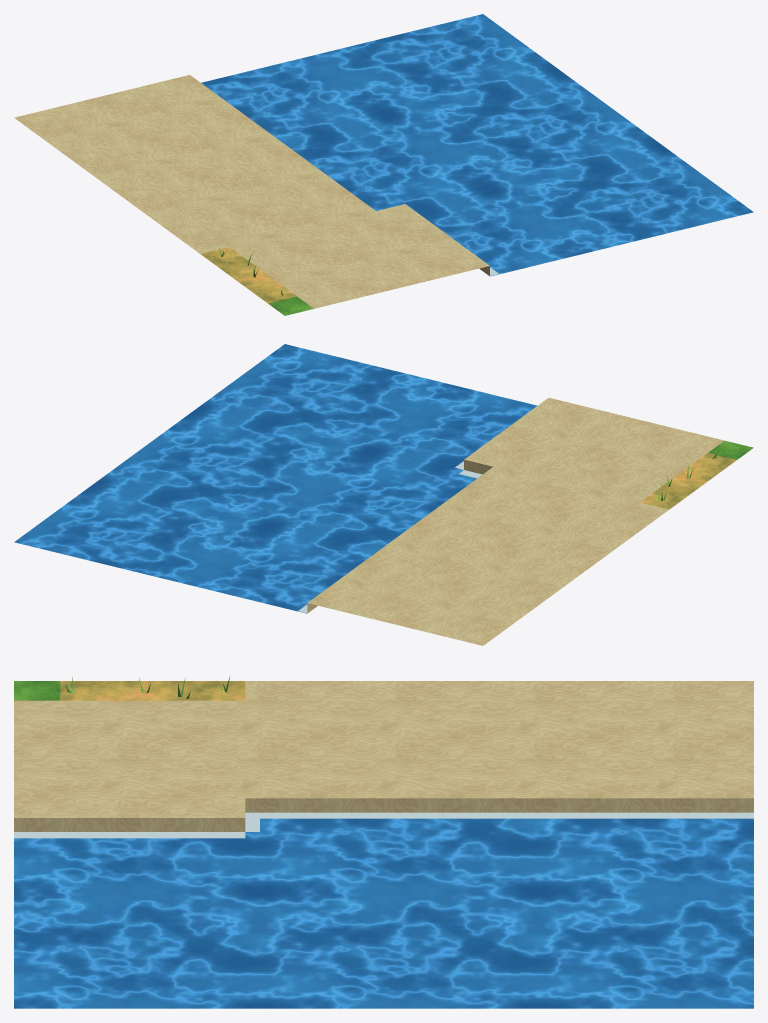
Rendered from chunk_11_9.glb.
3 views of the same model, one above another, from view 1: azimuth 30°, elevation 25°; view 2: azimuth 150°, elevation 25°; view 3: azimuth 270°, elevation 25° (orthographic). The views are drawn at different scales.
Parts seen in each view (by area): view 1: chunk_11_9; view 2: chunk_11_9; view 3: chunk_11_9.
Boxes of the visible parts, <box> form: chunk_11_9: <box>14,14,753,315</box>; chunk_11_9: <box>14,344,753,645</box>; chunk_11_9: <box>14,677,753,1008</box>.
Size of the model in its own units: 16 by 0.743 by 16.
Materials: 6 (4 with a texture image).
